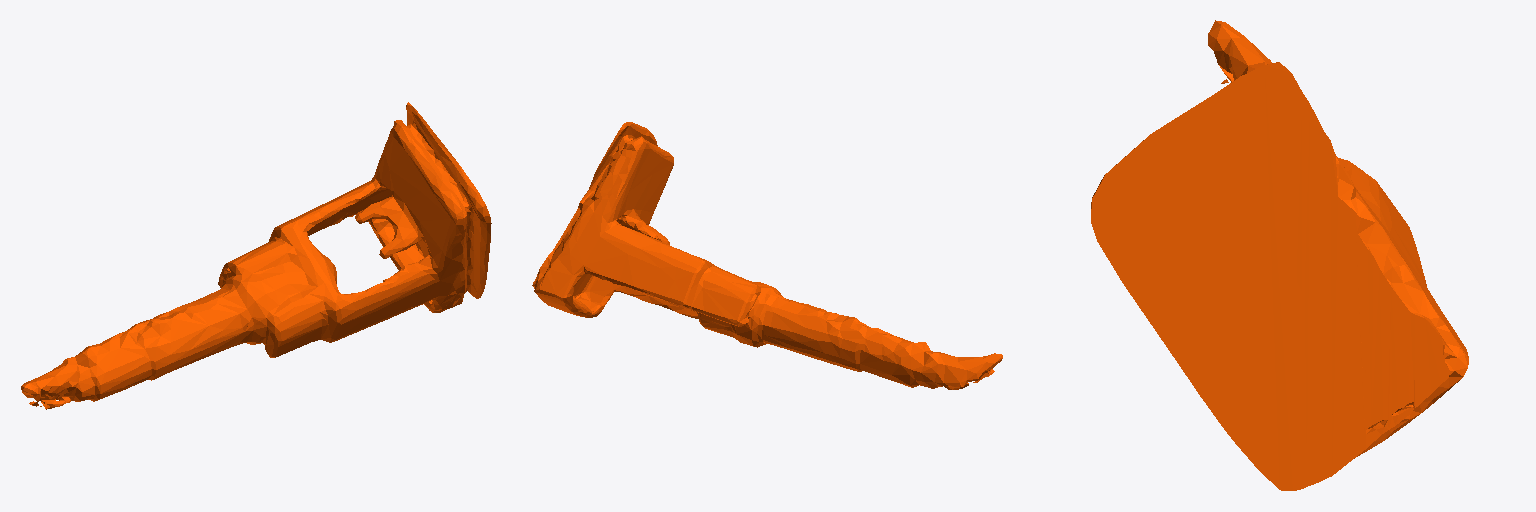
The robot description file, URDF, robot "hot_wind":
<?xml version="1.0" ?>
<robot name="hot_wind">
   <material name="obj_color">
      <color rgba="1.0 0.423529411765 0.0392156862745 1.0"/>
   </material>
   <link name="top">
      <inertial>
         <origin rpy="0.001143406978517954 0.007896420864900533 0.008190091330573919" xyz="-0.008745316204730994 -0.003974773172162703 0.001612713680094646"/>
         <mass value="0.9933366621684593"/>
         <inertia ixx="0.001505760412468997" ixy="4.744585328628436e-05" ixz="-0.001531166099377857" iyy="0.008092642904414615" iyz="0.0001529356990894926" izz="0.007631515857108792"/>
      </inertial>
      <visual>
         <origin rpy="0 0 0" xyz="0 0 0"/>
         <geometry>
            <mesh filename="top_watertight_tiny.stl" scale="1 1 1"/>
         </geometry>
         <material name="obj_color"/>
      </visual>
      <collision>
         <origin rpy="0 0 0" xyz="0 0 0"/>
         <geometry>
            <mesh filename="top_watertight_tiny.obj" scale="1 1 1"/>
         </geometry>
      </collision>
   </link>
   <link name="bottom">
      <inertial>
         <origin rpy="1.633333333199431e-08 1.633333333199431e-08 1.633333333362855e-08" xyz="0.3464080000000008 0.3464080000000008 0.3464080000000008"/>
         <mass value="0.0009800000000000017"/>
         <inertia ixx="1.633333333253906e-08" ixy="5.447480642029219e-19" ixz="5.447480642029219e-19" iyy="1.633333333253906e-08" iyz="5.447480642029219e-19" izz="1.633333333253906e-08"/>
      </inertial>
      <visual>
         <origin rpy="0 0 0" xyz="0 0 0"/>
         <geometry>
            <mesh filename="bottom_watertight_tiny.stl" scale="1 1 1"/>
         </geometry>
         <material name="obj_color"/>
      </visual>
   </link>
   <link name="world"/>
   <joint name="world_to_base" type="fixed">
      <origin xyz="0 0 0"/>
      <axis xyz="0 0 0"/>
      <parent link="world"/>
      <child link="bottom"/>
   </joint>
   <joint name="rotation" type="revolute">
      <origin xyz="0 0 0"/>
      <axis xyz="0 0 -1"/>
      <parent link="bottom"/>
      <child link="top"/>
      <dynamics damping="1.0" friction="1.0"/>
      <limit effort="0.1" velocity="0.1" lower="0" upper="0.001"/>
   </joint>
</robot>

--- Render facts (derived) ---
Views: 3 orthographic renders of the robot side by side, from view 1: azimuth 30°, elevation 25°; view 2: azimuth 150°, elevation 25°; view 3: azimuth 270°, elevation 25°.
Robot: hot_wind — 3 links, 2 joints (1 revolute, 1 fixed); root link world; default pose: all joints at 0.
Visible links, largest first — view 1: top; view 2: top; view 3: top.
Boxes of the visible links, <box> form: top: <box>21,102,491,409</box>; top: <box>532,122,1002,389</box>; top: <box>1091,20,1468,490</box>.
Size in the robot's own frame: 0.3478 by 0.1391 by 0.1537 metres.
1 mesh visuals loaded from 2 distinct referenced files (1 binary STL); not drawn: 1 (reference not matched to a file when rendering).
